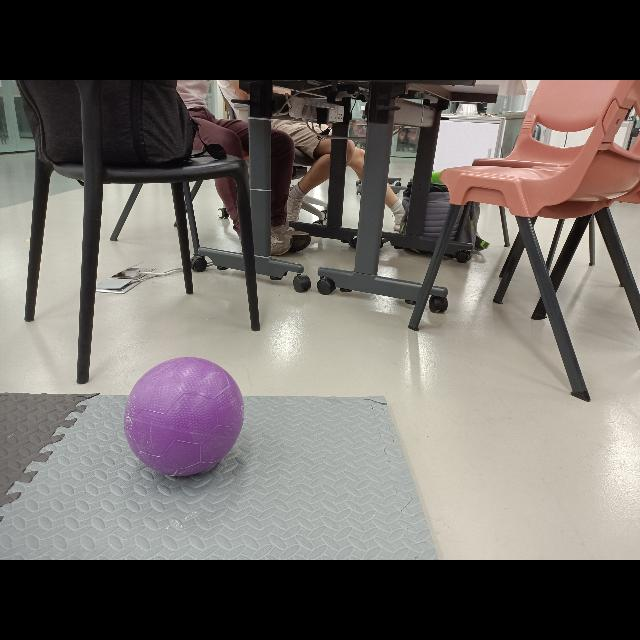P: (125, 357, 245, 478)
